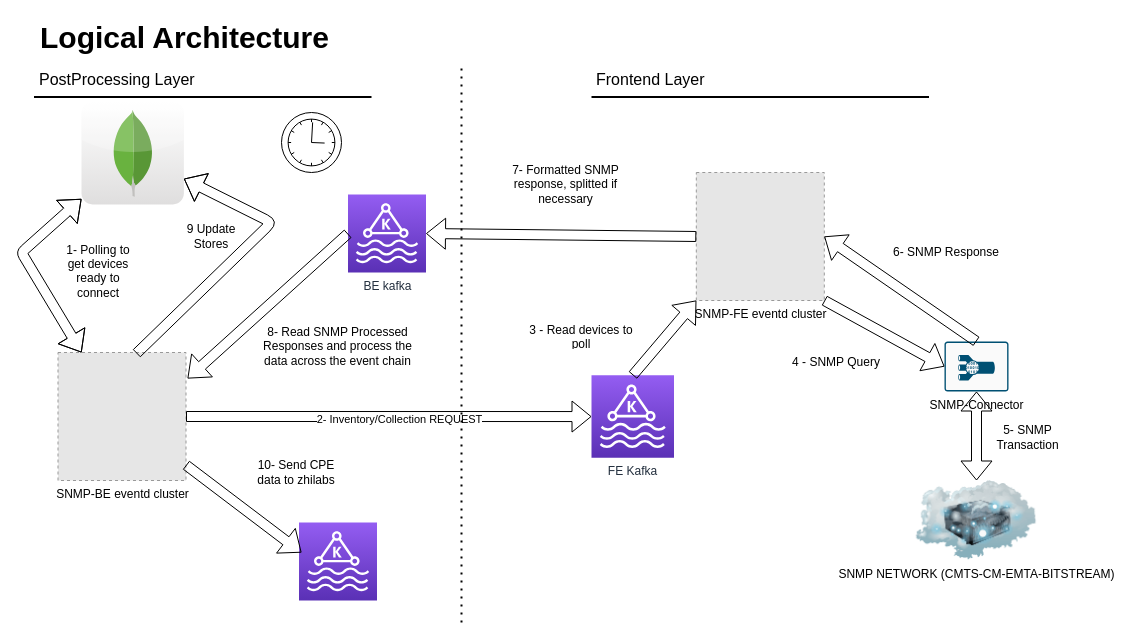
Image size: 1132x642. Some labels were removed from this diagram. Grey dashed boxes stand in for pictures. The shapes that lost their labels are listed below. From the top down, each one's centre as x and y in pixels, then its label:
(x=132, y=152): Mongo Stores
(x=311, y=142): Collection Timer
(x=337, y=561): Kafka2Zhilabs
